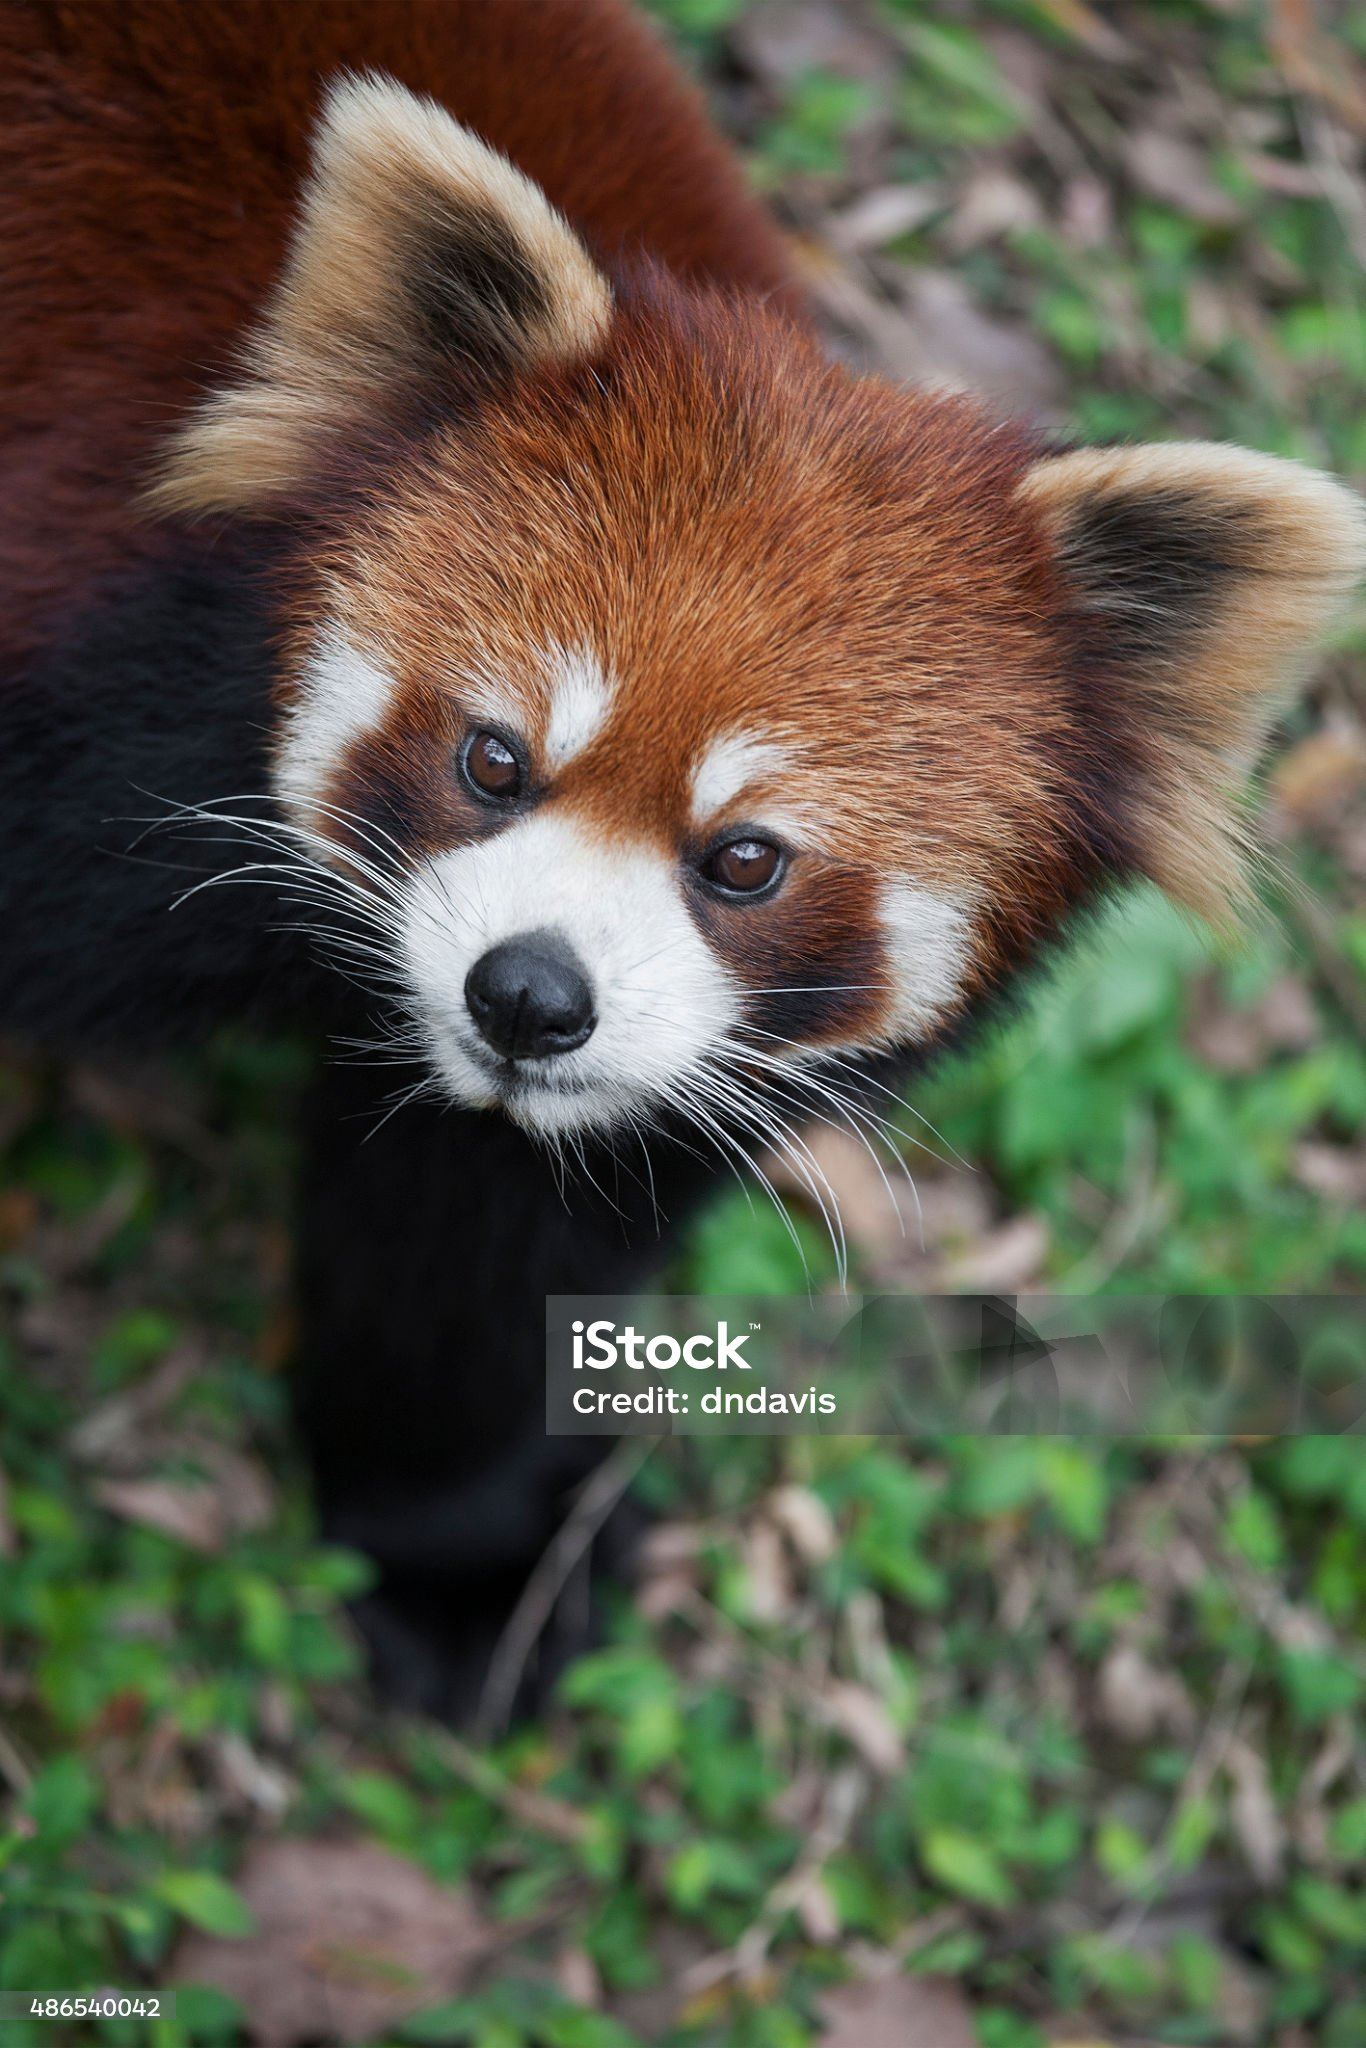Red panda: (152, 76, 1346, 1184)
